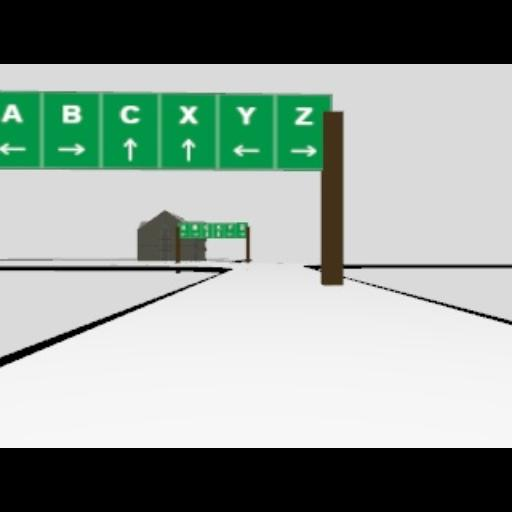A: (0, 101, 22, 123)
B: (60, 102, 82, 124)
C: (120, 104, 140, 124)
Left: (0, 142, 26, 156), (231, 144, 261, 156)
Right: (56, 142, 86, 156), (290, 144, 316, 156)
Straight: (181, 138, 195, 160), (122, 138, 136, 160)
X: (178, 104, 198, 124)
Y: (236, 104, 256, 124)
Z: (292, 106, 314, 124), (214, 224, 222, 236)
